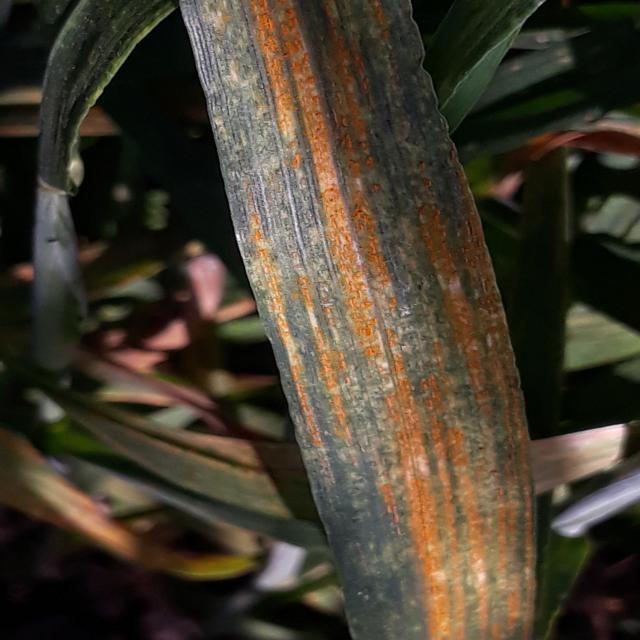yellow_rust: (178, 0, 558, 640), (0, 342, 310, 604), (29, 7, 178, 195), (521, 416, 640, 514), (463, 113, 637, 177)
